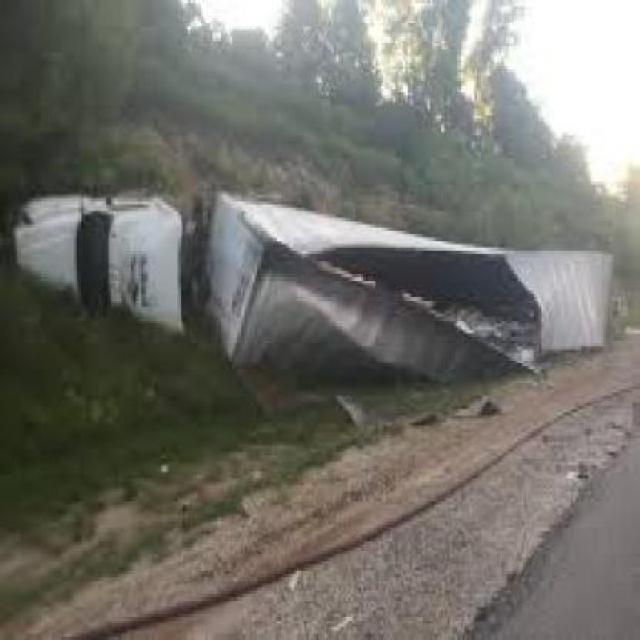accident: (13, 190, 621, 405)
